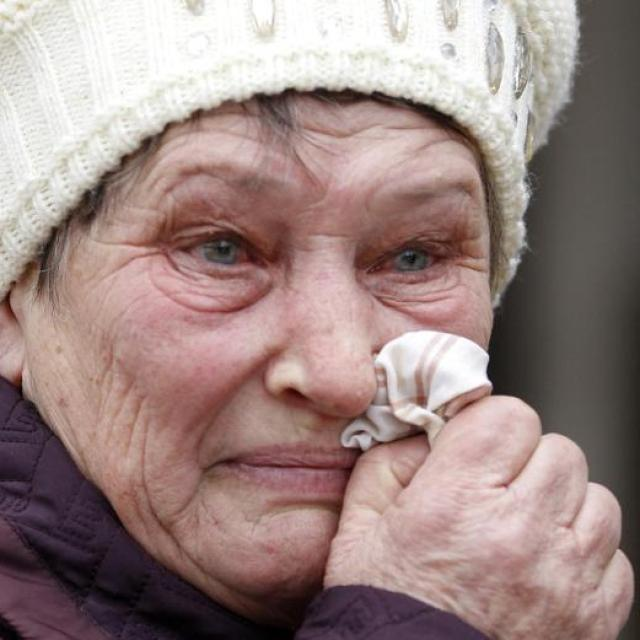Depress: (38, 97, 493, 598)
